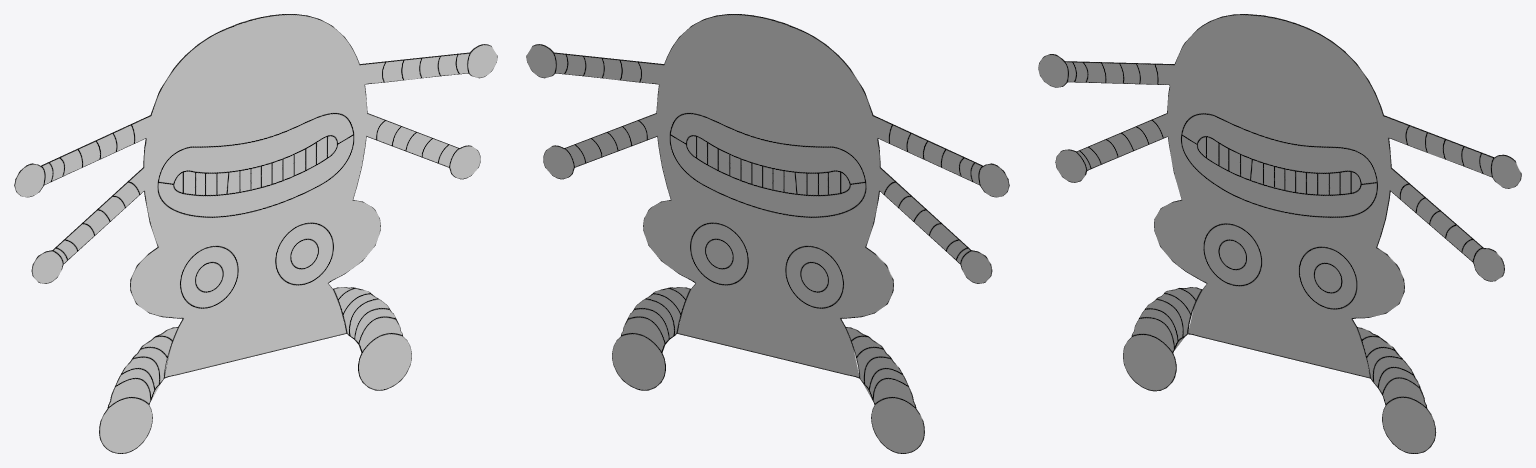
Rendered from 9_kaena.fbx.
3 views of the same model, side by side, from view 1: azimuth 30°, elevation 25°; view 2: azimuth 150°, elevation 25°; view 3: azimuth 330°, elevation 25° (orthographic).
Parts seen in each view (by area): view 1: planarTrimmedSurface1ewee; view 2: planarTrimmedSurface1ewee; view 3: planarTrimmedSurface1ewee.
Part boxes in pixels (x1,y1,x2,y2): planarTrimmedSurface1ewee: [14, 14, 497, 453]; planarTrimmedSurface1ewee: [526, 14, 1009, 453]; planarTrimmedSurface1ewee: [1038, 14, 1521, 453].
Size of the model in its own units: 36.89 by 29.43 by 0.0657.
Materials: 1 (1 with a texture image).
